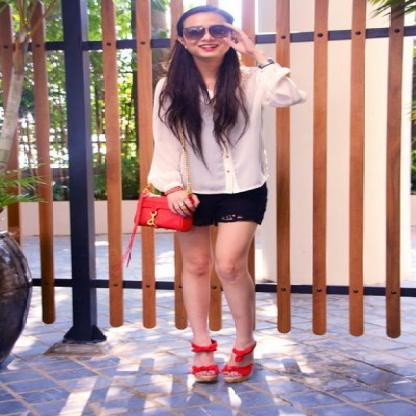bag: (138, 174, 192, 232)
shirt: (148, 61, 284, 193)
shoe: (187, 341, 256, 380)
skirt: (187, 183, 266, 224)
sunglass: (187, 25, 232, 39)
